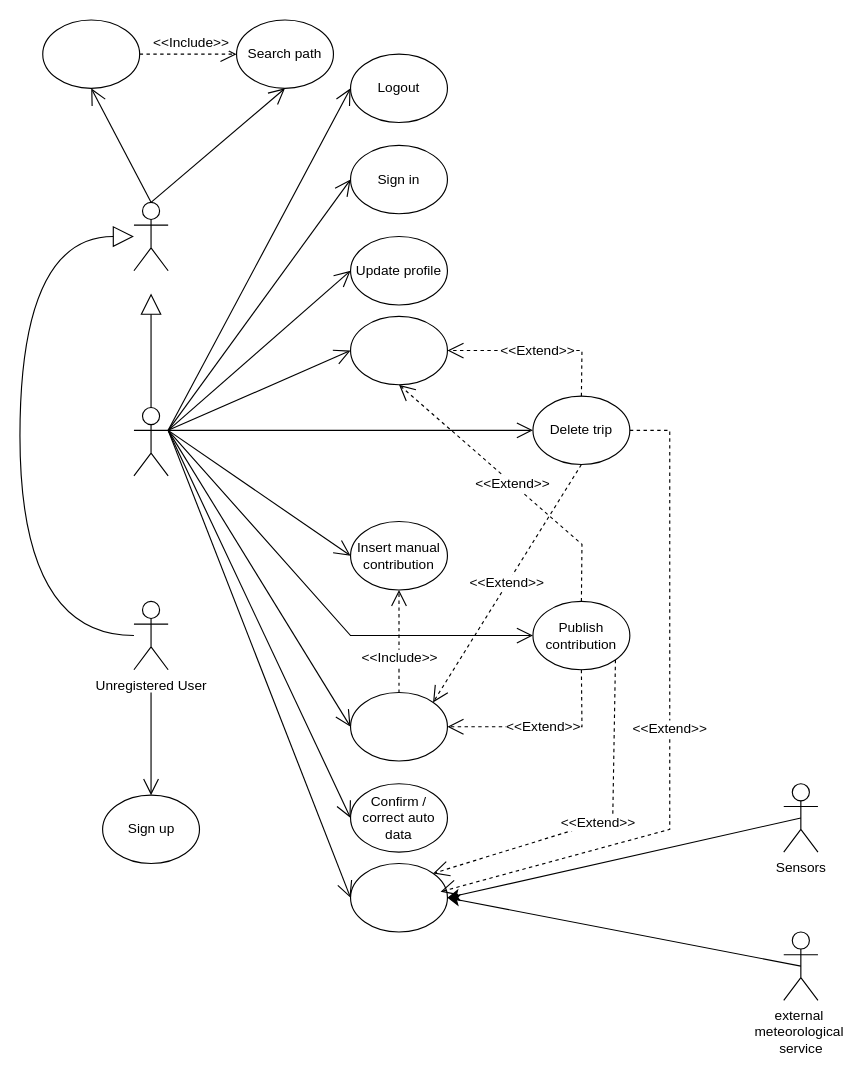
Some shapes in this 866 by 1077 pixel diagram are drawn without their labels. The shapes that lost their labels are listed below. From the top down, each one's centre as x and y in pixels, then its label:
(91,53): View path on map
(150,236): User
(398,350): View history
(150,441): Registered User
(398,726): Insert trip manually
(398,897): Record trip automatically
